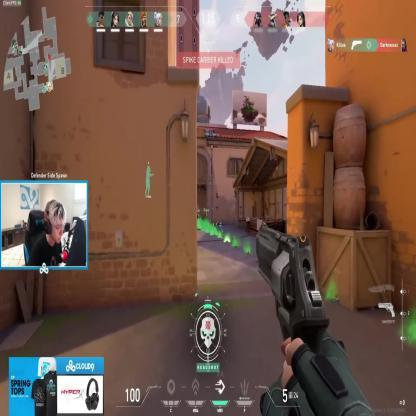enemy: (203, 206, 208, 223), (196, 206, 200, 224)
enemy_head: (197, 206, 199, 210), (204, 207, 206, 210)
